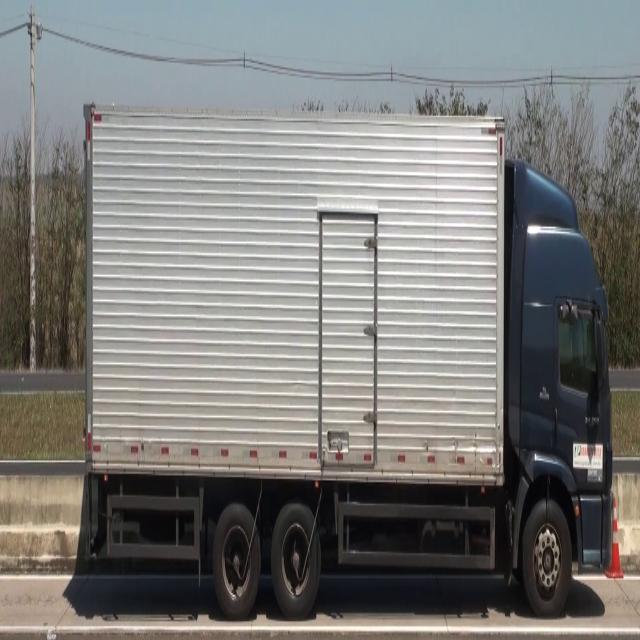-axle: (273, 501, 322, 619), (524, 493, 570, 616), (214, 503, 261, 622)
